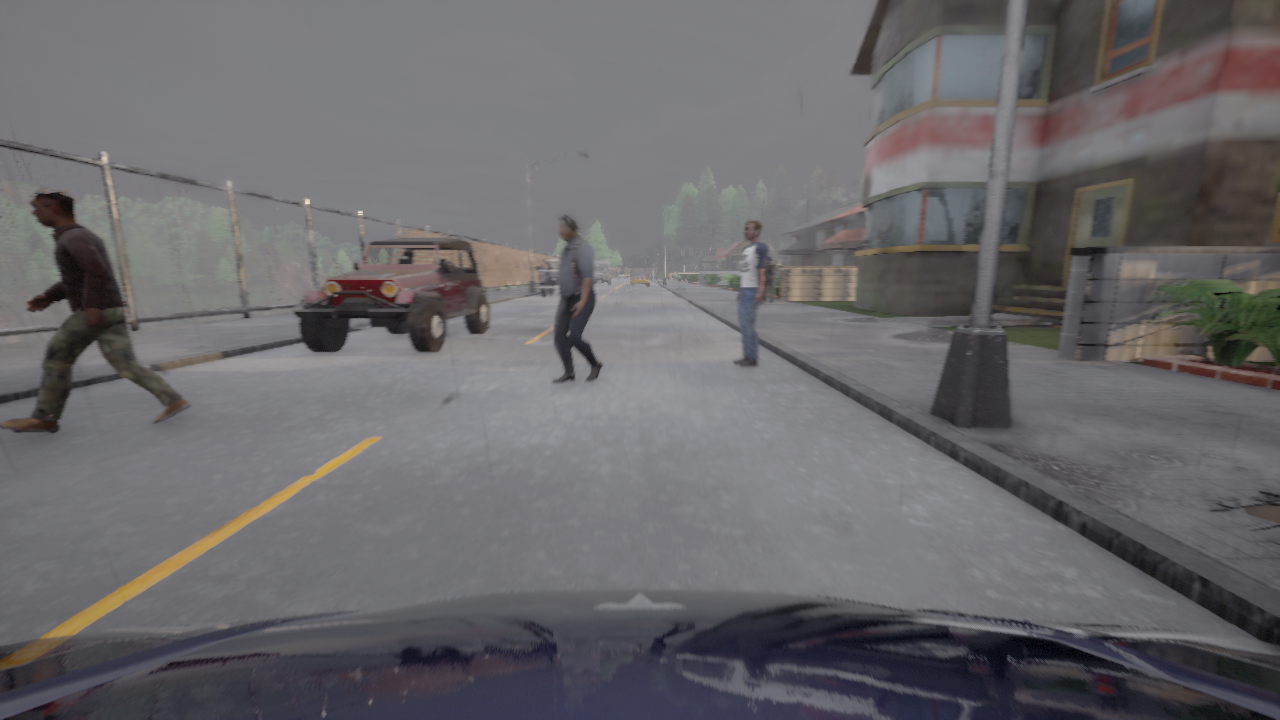cyclist: (0, 588, 1279, 719), (291, 237, 489, 352), (536, 258, 558, 295), (594, 260, 611, 285), (631, 270, 648, 284)
pedestrian: (0, 185, 190, 432), (551, 214, 602, 383), (734, 219, 769, 366), (763, 255, 776, 301)
